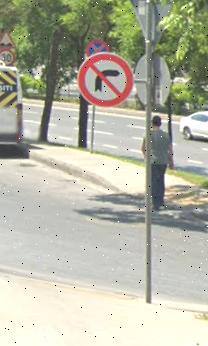leftturnsareforbidden: (80, 55, 130, 107)
